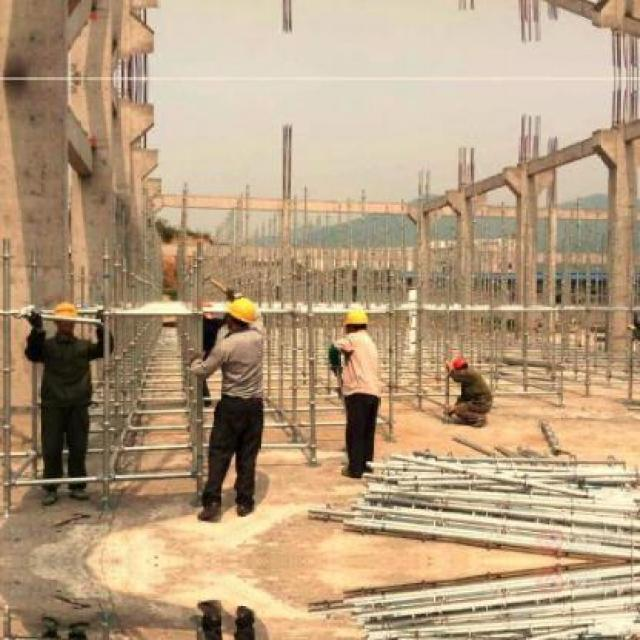hat: (331, 299, 371, 335), (223, 293, 262, 329), (46, 293, 79, 321), (446, 353, 469, 377)
